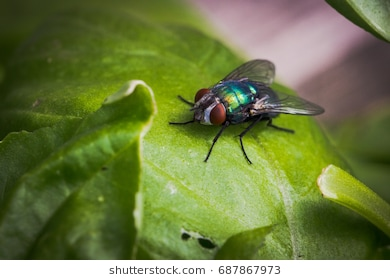green bottles fly: (166, 43, 337, 179)
